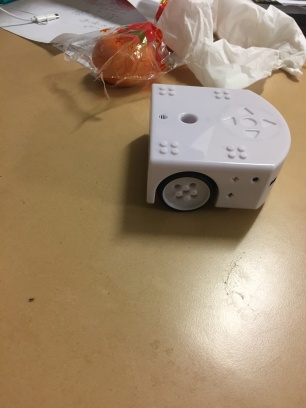thymio: (136, 77, 294, 217)
